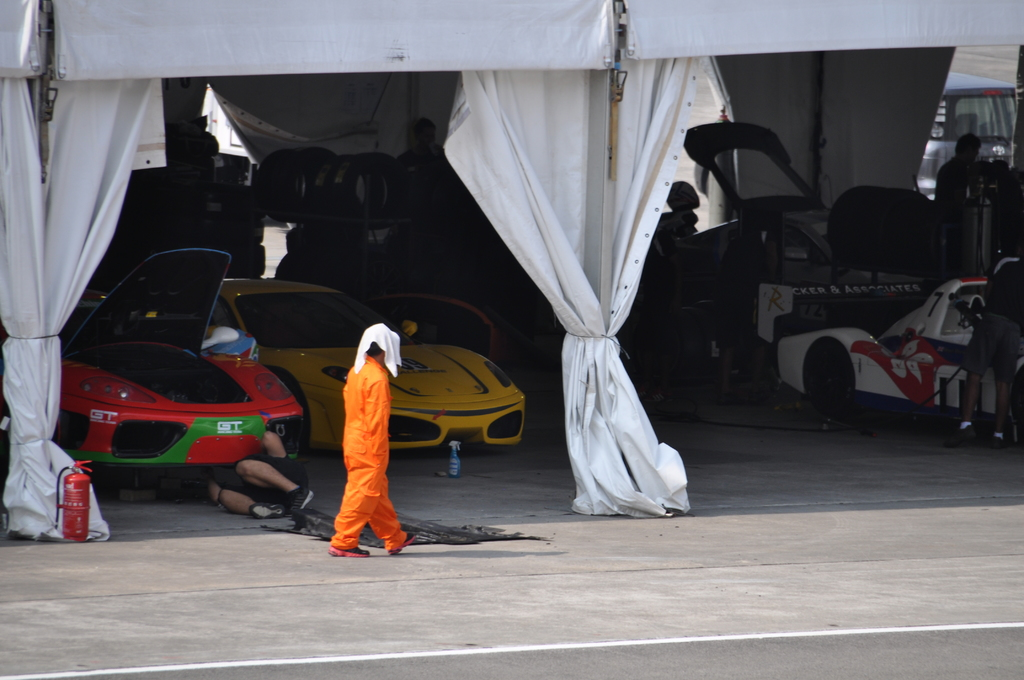Car: (173, 270, 530, 462), (49, 246, 304, 465), (755, 276, 1023, 429), (684, 122, 831, 281), (913, 62, 1023, 197), (675, 206, 845, 282)
